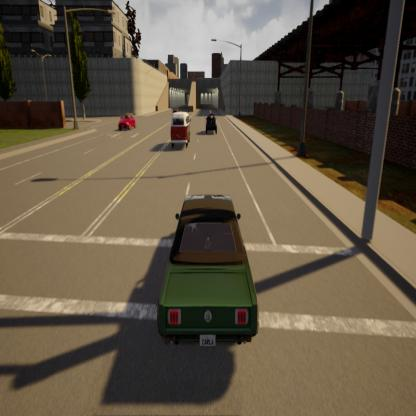Cars: (154, 184, 264, 365), (166, 104, 192, 153), (116, 107, 139, 138), (201, 110, 221, 134)
